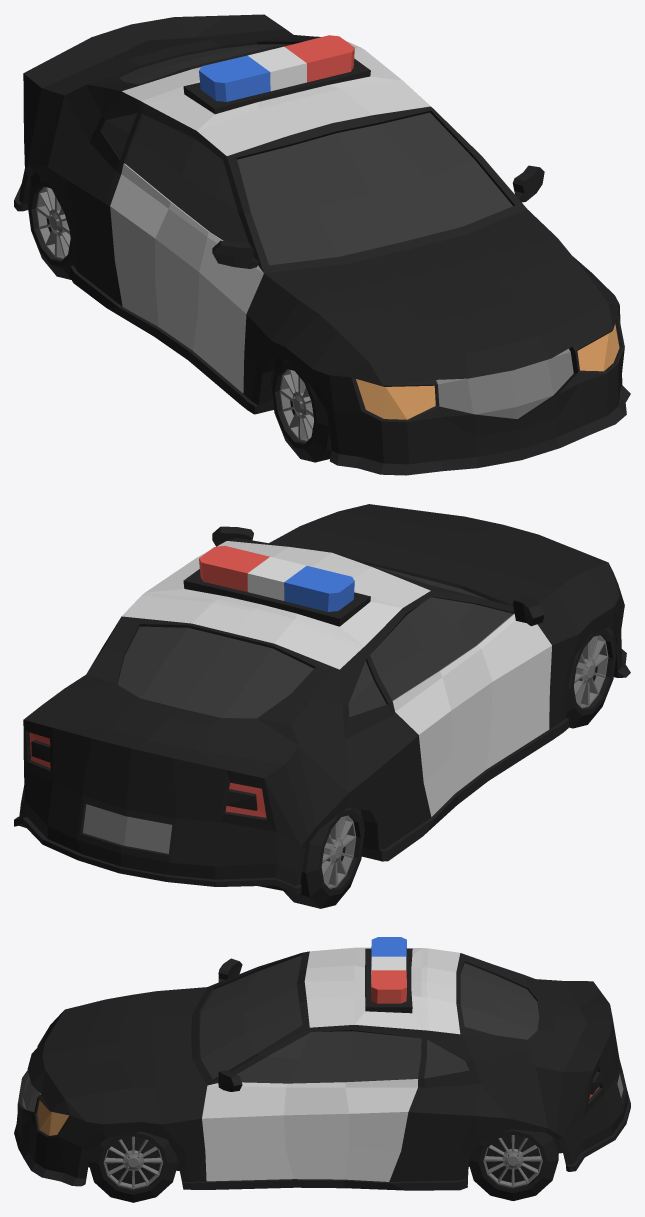
The model's file is Cop.gltf.
The picture shows the model from 3 angles, top to bottom: view 1: azimuth 30°, elevation 25°; view 2: azimuth 150°, elevation 25°; view 3: azimuth 270°, elevation 25°; orthographic projection. The views are drawn at different scales.
Visible parts, largest first — view 1: Cop.001; view 2: Cop.001; view 3: Cop.001.
Part boxes in pixels (bbox=[...]): Cop.001: bbox=[14, 14, 630, 475]; Cop.001: bbox=[14, 504, 630, 908]; Cop.001: bbox=[14, 937, 630, 1202].
Size of the model in its own units: 1.78 by 1.24 by 3.73.
